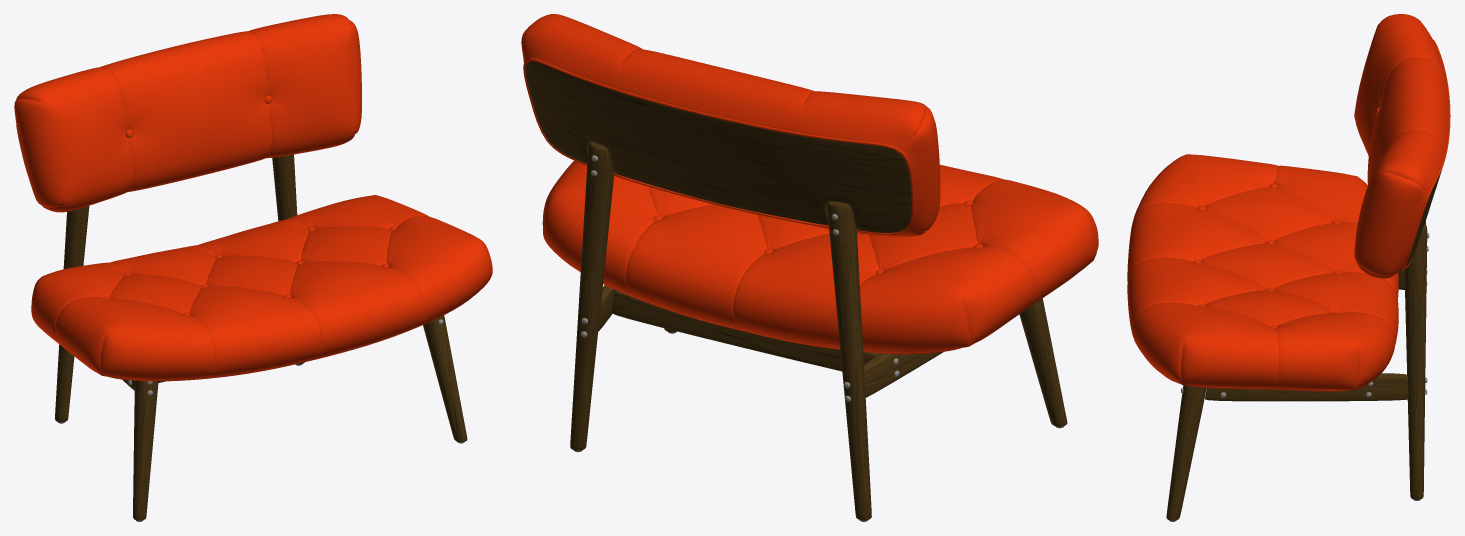
The model's file is SheenChair-opt.glb.
The picture shows the model from 3 angles, left to right: view 1: azimuth 30°, elevation 25°; view 2: azimuth 150°, elevation 25°; view 3: azimuth 270°, elevation 25°; orthographic projection. The views are drawn at different scales.
Parts seen in each view (by area): view 1: SheenChair_fabric, SheenChair_wood; view 2: SheenChair_fabric, SheenChair_wood; view 3: SheenChair_fabric, SheenChair_wood.
Boxes of the visible parts, bbox=[...] form: SheenChair_fabric: bbox=[14, 14, 492, 381]; SheenChair_wood: bbox=[55, 154, 467, 520]; SheenChair_fabric: bbox=[521, 14, 1098, 354]; SheenChair_wood: bbox=[525, 61, 1067, 520]; SheenChair_fabric: bbox=[1127, 14, 1450, 391]; SheenChair_wood: bbox=[1166, 170, 1441, 520].
Size of the model in its own units: 0.8266 by 0.6863 by 0.5703.
Materials: 4 (3 with a texture image).
